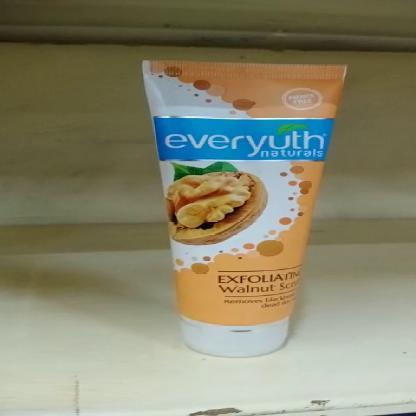EY EXF WALNUT SCRUB AYR 200G: (136, 61, 350, 360)
